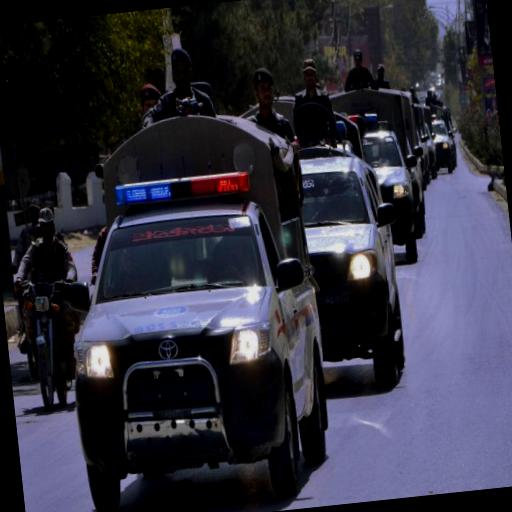Ambulance: (44, 105, 343, 512)
